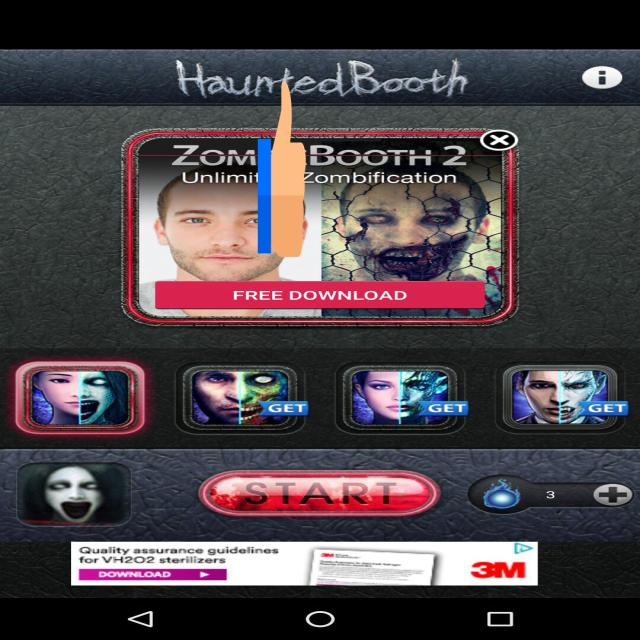privacy zuckering: (258, 76, 306, 262)
